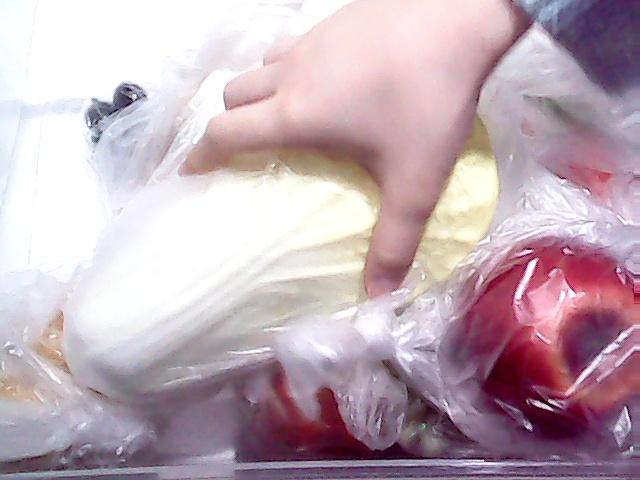apple: (420, 213, 640, 451)
carrot: (518, 79, 640, 212)
grape: (63, 63, 177, 173)
napa cabbage: (39, 77, 505, 406)
peach: (234, 350, 426, 462)
potato: (0, 305, 116, 478)
